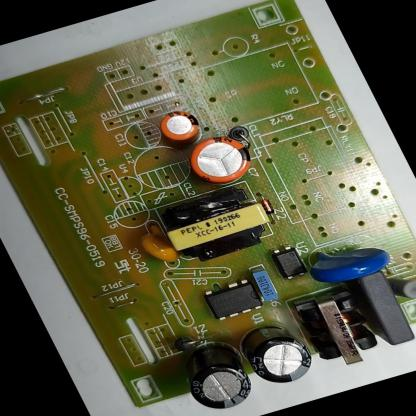Cap1: (182, 129, 259, 189)
Cap2: (154, 105, 206, 146)
Cap3: (234, 317, 321, 391)
Cap4: (169, 335, 264, 415)
MOSFET: (200, 276, 266, 322)
Mov: (300, 231, 397, 290)
Resistor: (384, 270, 416, 304)
Transformer: (152, 178, 284, 268), (289, 286, 387, 376)
